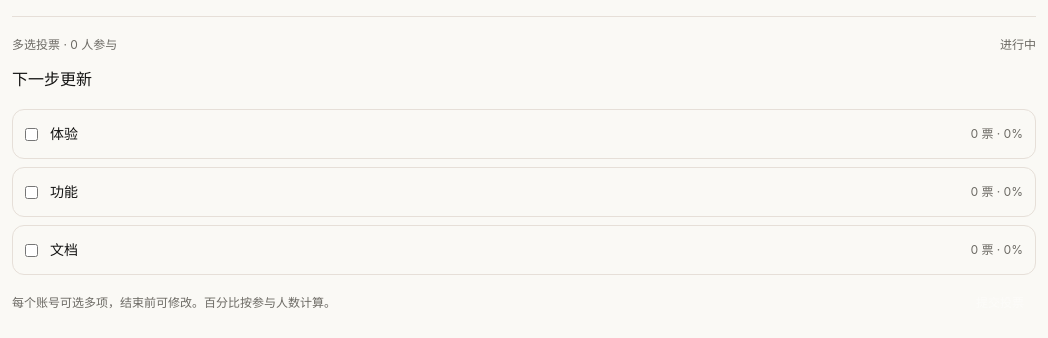
it: announcement poll selection › saves two choices and restores both from the persisted result
Click the checkbox labelled "体验 0 票 · 0%": (32, 134) [25,128,38,140]
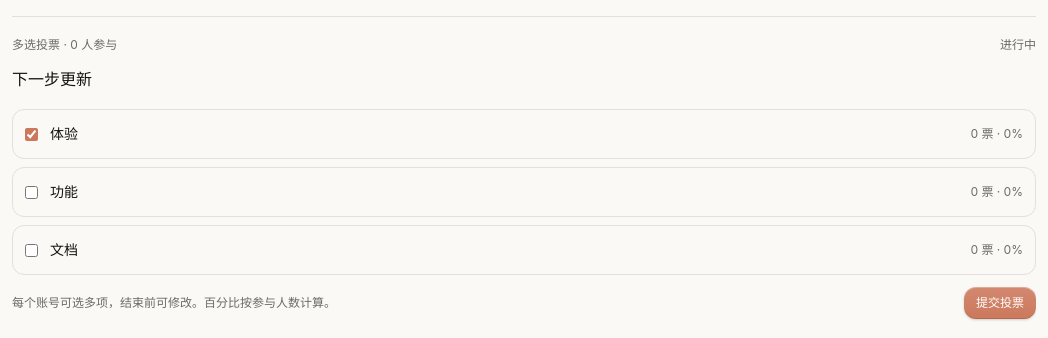
Click the checkbox labelled "功能 0 票 · 0%": (32, 192) [25,186,38,198]
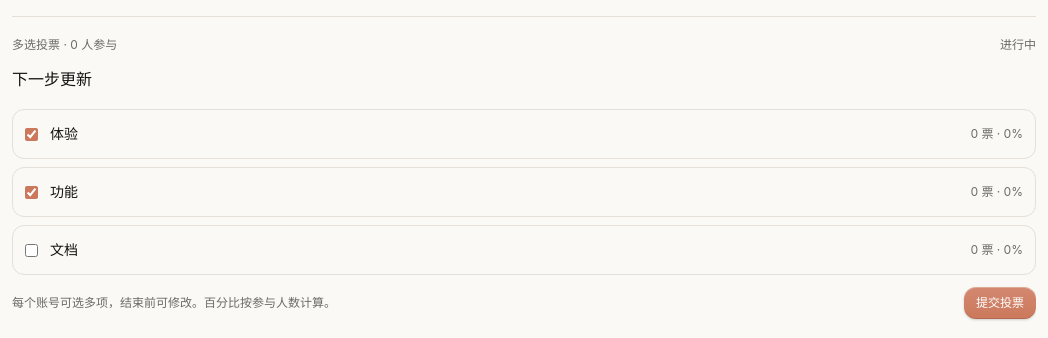
Click the button "提交投票": (1000, 303) [964,287,1036,319]
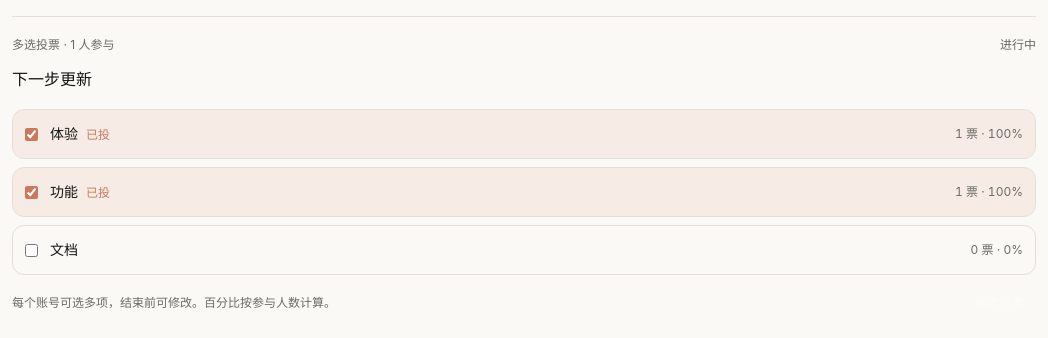
Check: the text "1 人参与" is shown, box [12,37,114,53]
Check: the 1st label shows "100%", box [12,109,1036,159]
Check: the 2nd label shows "100%", box [12,167,1036,217]
